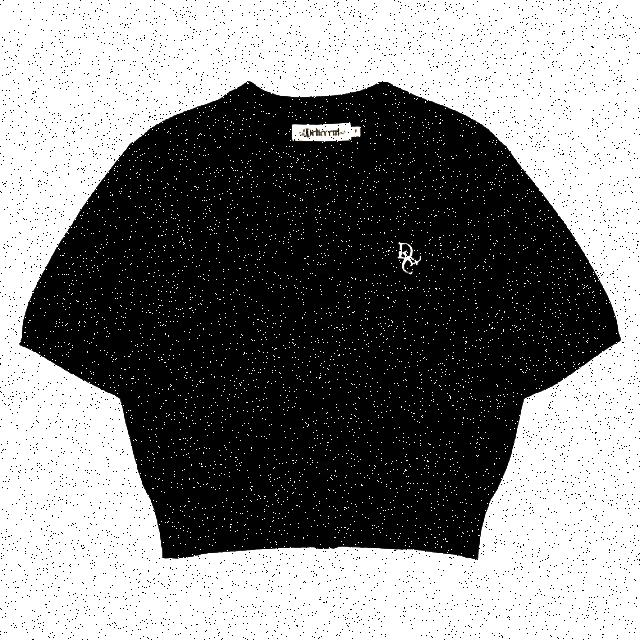dress: (20, 81, 618, 557)
